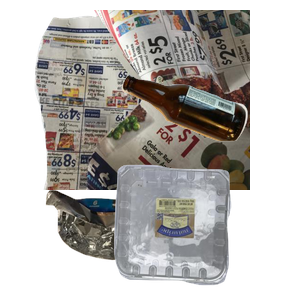glass: (119, 73, 300, 207)
paper: (32, 10, 272, 190)
plastic: (112, 162, 300, 300)
trash: (43, 187, 234, 300)
